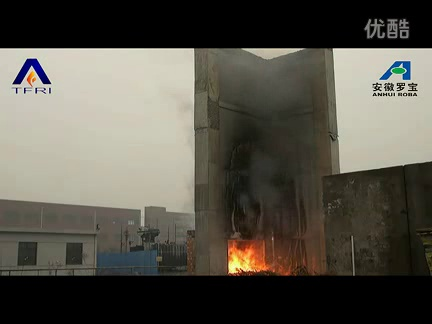fire: (227, 241, 270, 273)
